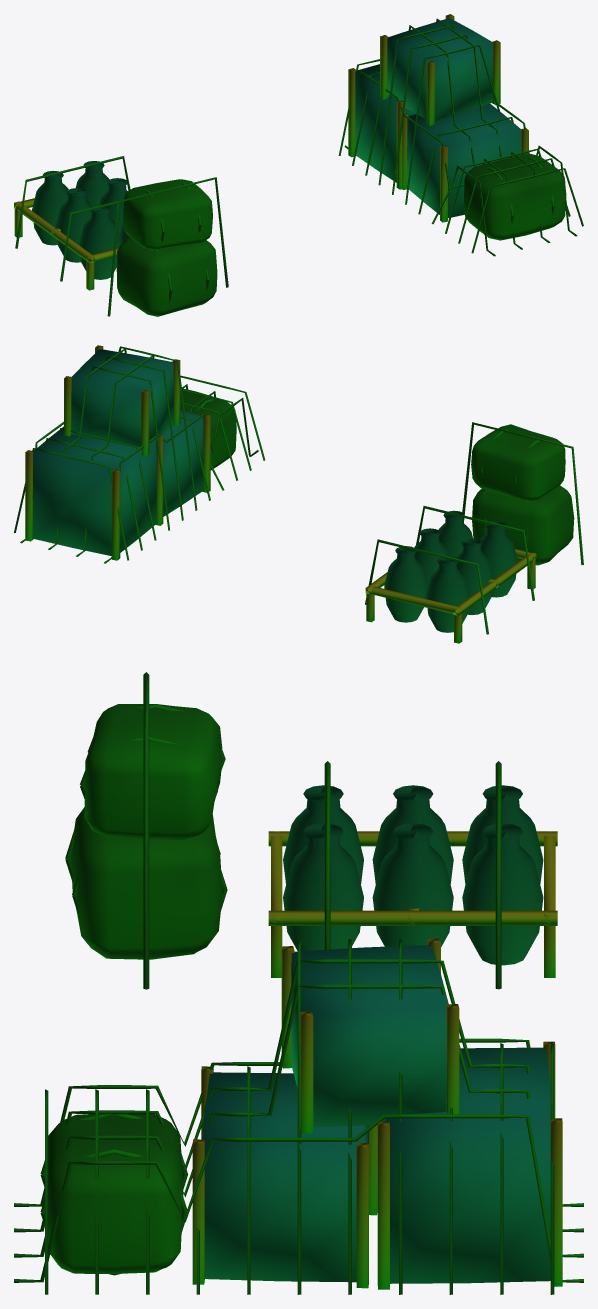
Rendered from ferry_cargo.glb.
The picture shows the model from 3 angles, top to bottom: view 1: azimuth 30°, elevation 25°; view 2: azimuth 150°, elevation 25°; view 3: azimuth 270°, elevation 25°; orthographic projection. The views are drawn at different scales.
Visible parts, largest first — view 1: ferry_cargo; view 2: ferry_cargo; view 3: ferry_cargo.
Part boxes in pixels (x1=…): ferry_cargo: x1=14, y1=14, x2=583, y2=316; ferry_cargo: x1=14, y1=345, x2=583, y2=643; ferry_cargo: x1=14, y1=672, x2=583, y2=1294.
Size of what is drawn, in the model's own units: 4.63 by 1.45 by 2.67.
